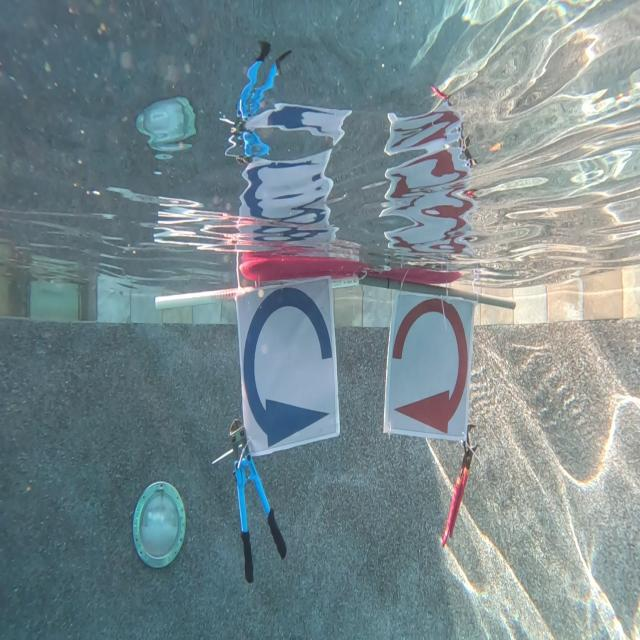blue_side: (239, 283, 335, 436)
red_side: (388, 292, 468, 443)
